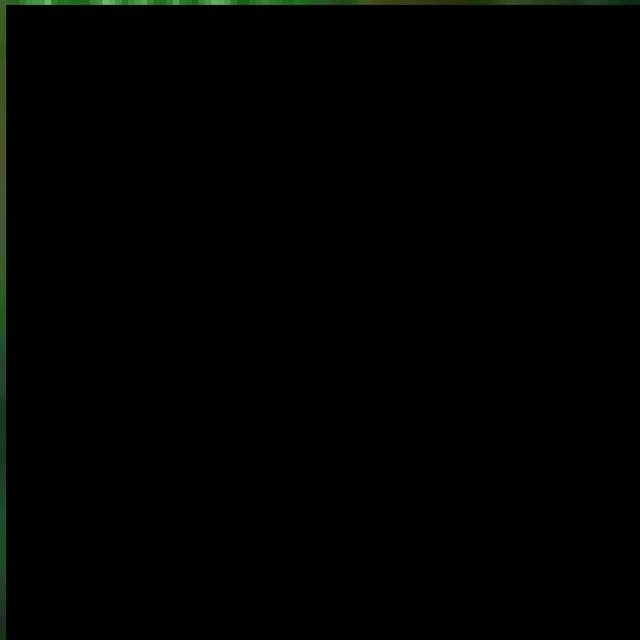nofire: (6, 5, 640, 640)
